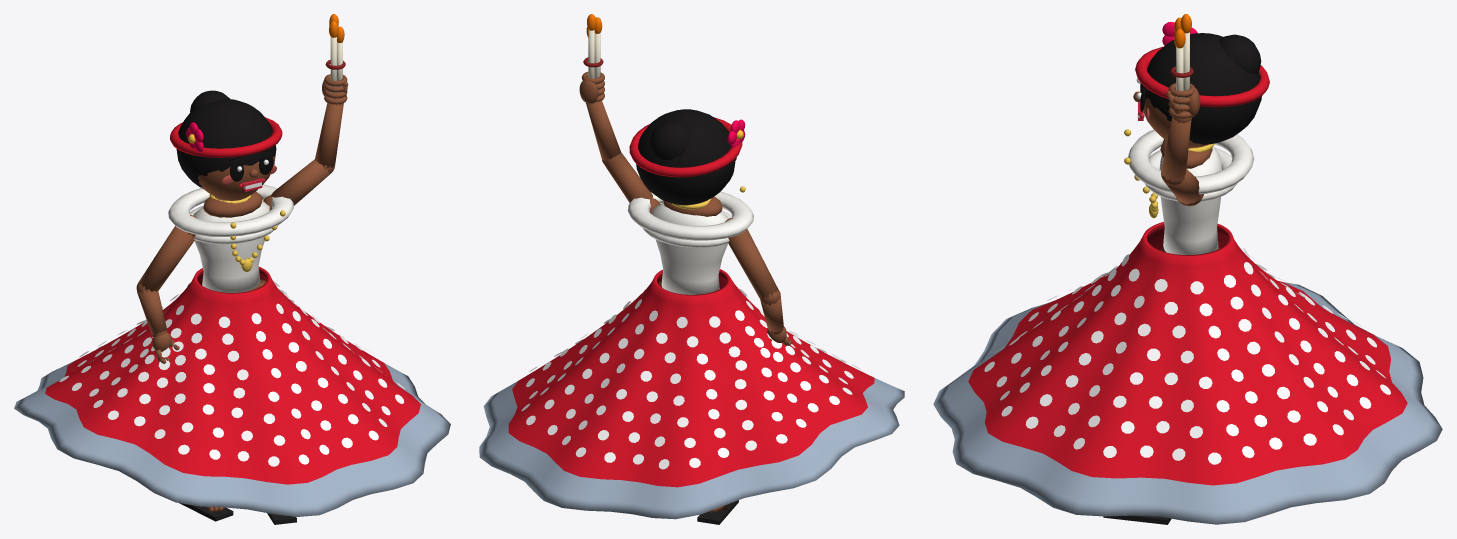
File: bailarina-vestido-rojo-puntos-blancos.glb
3 views of the same model, side by side, from view 1: azimuth 30°, elevation 25°; view 2: azimuth 150°, elevation 25°; view 3: azimuth 270°, elevation 25° (orthographic). The views are drawn at different scales.
Visible parts, largest first — view 1: Pollera, Lunares, Cabello, Torso_Blusa, Bolero_Alto, Brazo_Izq_Sup, Cinta_Cabeza, Cabeza, Brazo_Der_Inf, Brazo_Der_Sup, Escote, Brazo_Izq_Inf (+1 smaller); view 2: Pollera, Lunares, Cabello, Torso_Blusa, Bolero_Alto, Brazo_Izq_Sup, Cinta_Cabeza, Mono, Brazo_Der_Sup, Brazo_Der_Inf, Bolero_Bajo, Brazo_Izq_Inf (+1 smaller); view 3: Pollera, Lunares, Cabello, Torso_Blusa, Bolero_Alto, Cinta_Cabeza, Brazo_Der_Inf, Mono, Bolero_Bajo, Cabeza, Brazo_Der_Sup.
Part boxes in pixels (<box>): Pollera: <box>14,266,450,516</box>; Lunares: <box>59,281,405,466</box>; Cabello: <box>176,99,276,188</box>; Torso_Blusa: <box>193,201,269,292</box>; Bolero_Alto: <box>168,184,293,236</box>; Brazo_Izq_Sup: <box>139,226,194,291</box>; Cinta_Cabeza: <box>170,117,282,157</box>; Cabeza: <box>197,156,275,200</box>; Brazo_Der_Inf: <box>315,103,343,167</box>; Brazo_Der_Sup: <box>270,159,330,205</box>; Escote: <box>203,191,262,217</box>; Brazo_Izq_Inf: <box>137,289,166,334</box>; Pollera: <box>479,269,904,519</box>; Lunares: <box>521,288,861,469</box>; Cabello: <box>636,109,735,205</box>; Torso_Blusa: <box>652,203,728,294</box>; Bolero_Alto: <box>627,191,753,240</box>; Brazo_Izq_Sup: <box>728,229,778,300</box>; Cinta_Cabeza: <box>629,117,742,177</box>; Mono: <box>649,121,690,160</box>; Brazo_Der_Sup: <box>603,152,653,202</box>; Brazo_Der_Inf: <box>586,100,621,161</box>; Bolero_Bajo: <box>643,210,731,247</box>; Brazo_Izq_Inf: <box>760,296,783,332</box>; Pollera: <box>933,222,1442,524</box>; Lunares: <box>984,247,1390,464</box>; Cabello: <box>1142,33,1261,144</box>; Torso_Blusa: <box>1159,147,1221,254</box>; Bolero_Alto: <box>1128,129,1254,194</box>; Cinta_Cabeza: <box>1135,46,1269,107</box>; Brazo_Der_Inf: <box>1161,117,1191,181</box>; Mono: <box>1219,34,1261,74</box>; Bolero_Bajo: <box>1144,147,1237,201</box>; Cabeza: <box>1141,89,1208,147</box>; Brazo_Der_Sup: <box>1165,169,1200,203</box>.
Bounding box in the file's own units: 1.75 × 2.07 × 1.75.
